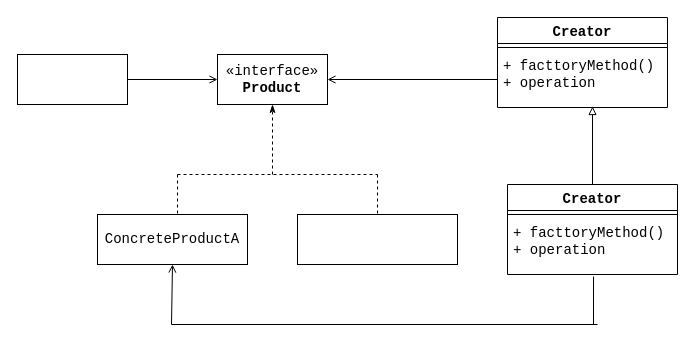
Image size: 695x350. Some labels were removed from this diagram. The shapes that lost their labels are listed below. From the top down, each one's centre as x and y in pixels, then its label:
point 72,79: Client
point 377,239: ConcreteProductB
